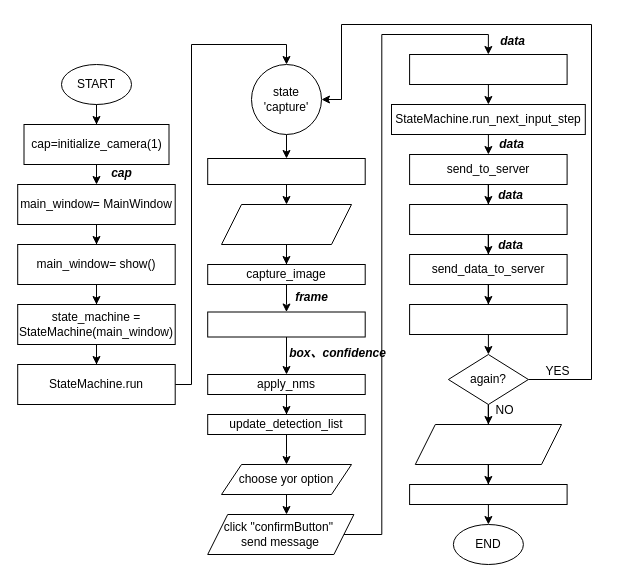
Some shapes in this 617 by 582 pixel diagram are drawn without their labels. Here are the shapes that lost their labels. From the top down, the centre of each, then its label:
point (488, 69): StateMachine.set_input_data
point (286, 171): update_frame
point (286, 224): click "startButton" capture image
point (488, 219): format_message
point (286, 324): enhance_image
point (488, 319): (wait the action complete)
point (488, 444): click "closeButton" end the process
point (488, 494): close_application
